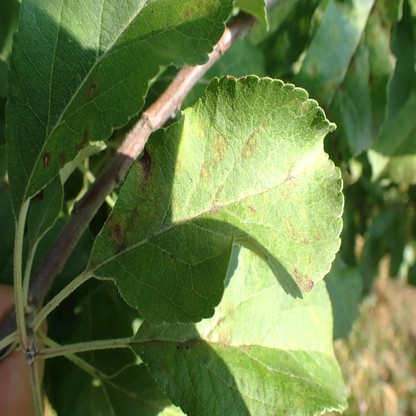scab: (126, 142, 162, 231), (274, 361, 314, 416), (241, 120, 267, 159), (103, 217, 128, 257), (152, 359, 175, 386), (209, 133, 228, 165), (209, 183, 225, 216), (293, 268, 313, 293), (175, 338, 200, 358), (340, 2, 360, 27), (75, 123, 89, 155), (83, 76, 101, 100), (283, 161, 299, 188), (190, 116, 206, 138), (285, 214, 298, 241), (201, 338, 213, 367), (195, 1, 219, 14), (217, 328, 233, 347), (144, 329, 162, 345), (168, 194, 178, 221), (199, 161, 211, 183), (307, 56, 319, 78), (181, 5, 195, 23), (167, 248, 178, 270), (135, 390, 148, 408), (246, 196, 256, 216), (174, 157, 186, 173), (332, 132, 341, 151), (42, 149, 51, 167), (347, 56, 356, 74), (58, 148, 66, 167), (226, 301, 234, 319), (372, 5, 383, 18), (239, 343, 251, 354), (313, 229, 323, 242), (300, 232, 309, 246), (318, 80, 326, 95), (368, 71, 376, 86), (329, 27, 338, 40), (370, 32, 379, 44), (258, 191, 266, 204), (280, 190, 290, 200), (328, 79, 337, 90), (88, 258, 95, 270), (337, 153, 344, 165), (218, 316, 226, 325), (334, 68, 342, 77), (384, 0, 391, 8), (381, 21, 388, 28), (308, 256, 312, 264)
